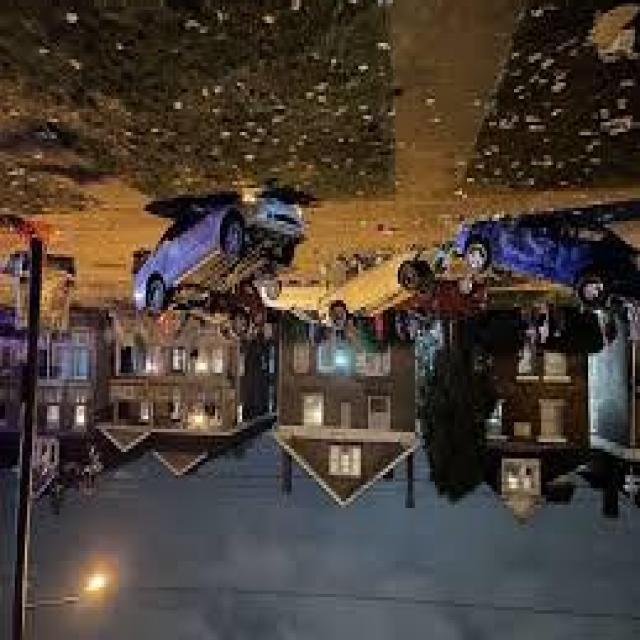severe: (130, 190, 308, 318), (449, 210, 640, 316), (315, 241, 449, 340)
